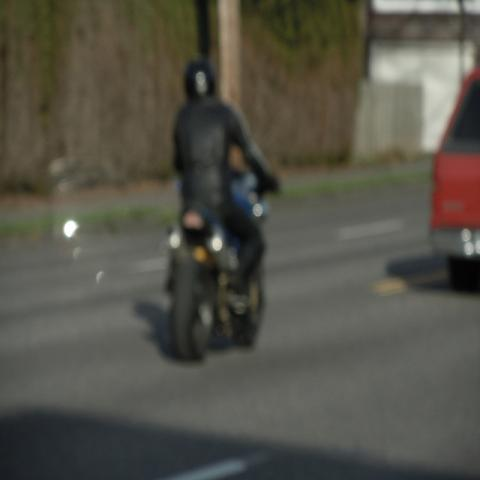car: (428, 69, 480, 294)
motorcycle: (169, 209, 270, 357)
